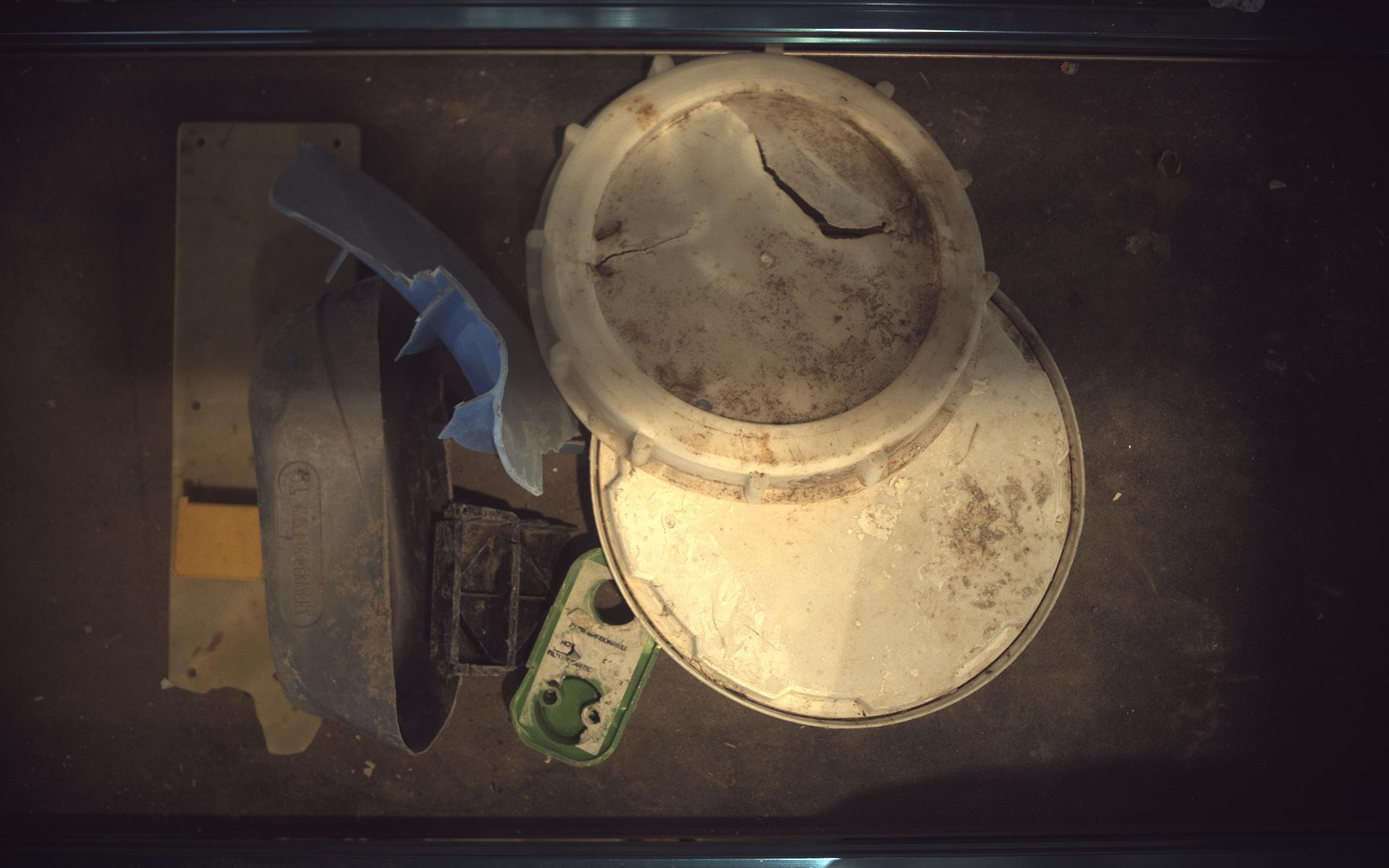plastic: (592, 295, 1085, 727), (531, 54, 993, 502), (163, 122, 360, 757), (269, 142, 578, 495), (249, 276, 459, 754), (510, 549, 658, 767), (431, 503, 577, 676), (174, 497, 262, 581)
